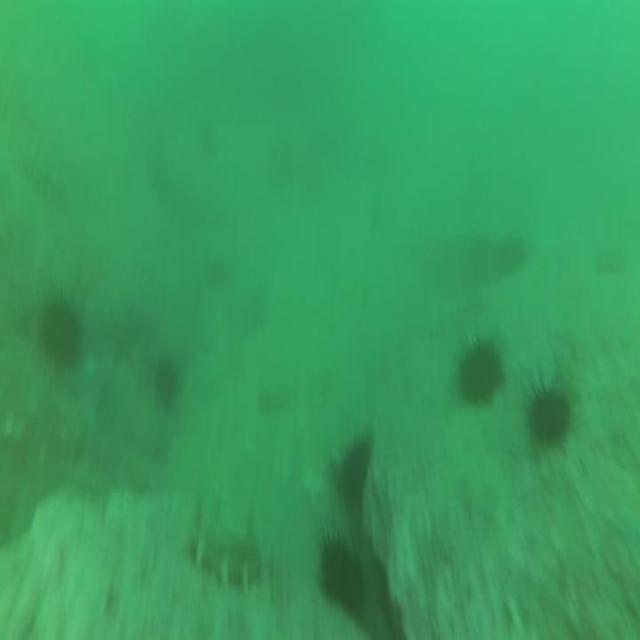echinus: (31, 286, 84, 381), (316, 533, 366, 624), (455, 329, 508, 411), (526, 368, 574, 452), (335, 434, 373, 522), (374, 556, 407, 640), (153, 354, 181, 411), (495, 231, 528, 278)
holothurian: (185, 504, 264, 597), (19, 147, 64, 210)
